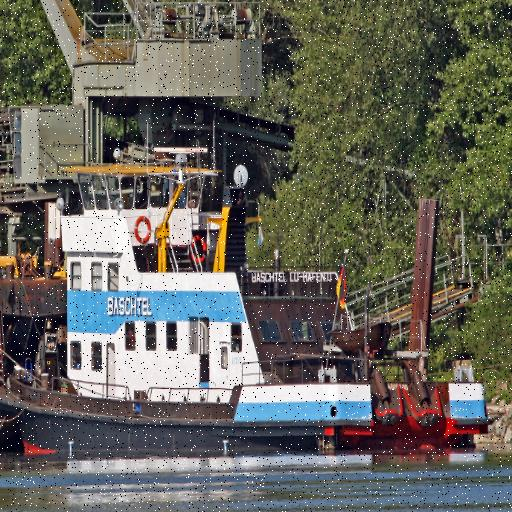tugboat: (1, 143, 500, 470)
